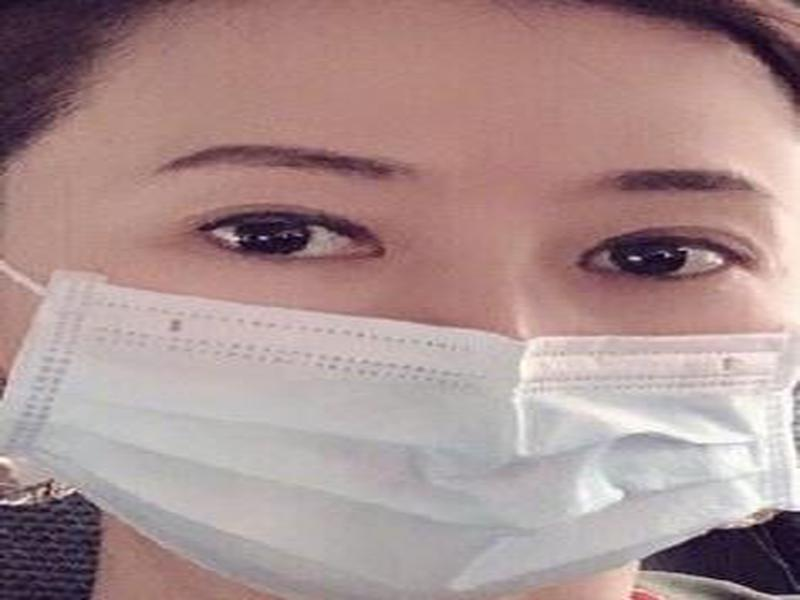with_mask: (1, 1, 798, 600)
